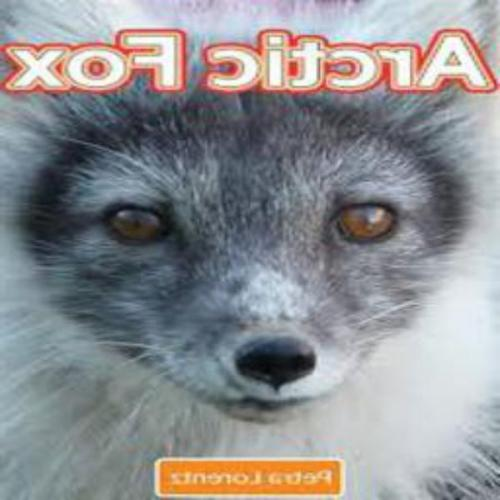arctic_fox-endangered: (15, 80, 495, 458)
